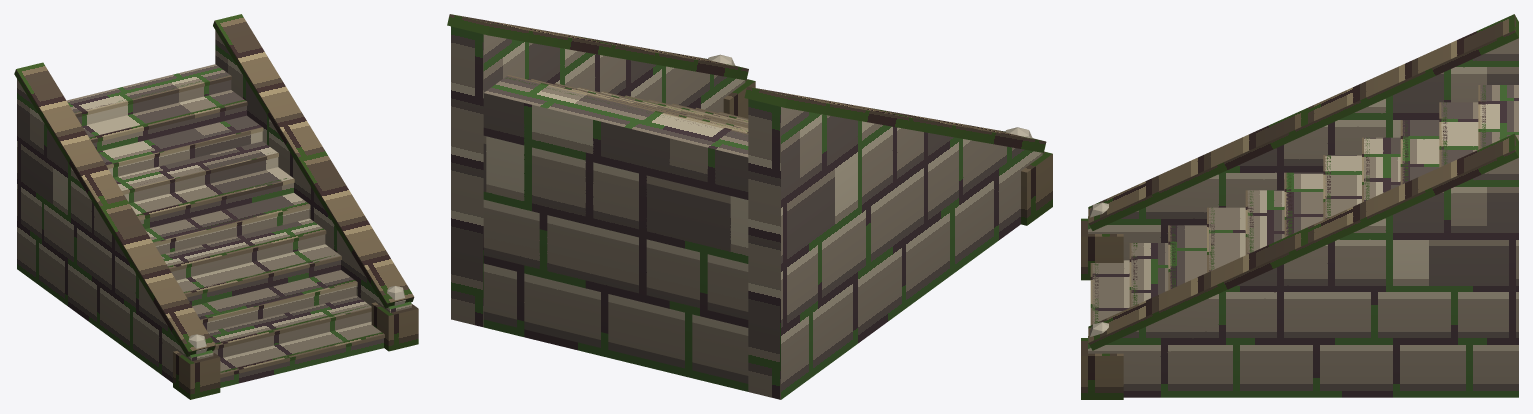
The model's file is scene_stair_market.glb.
The picture shows the model from 3 angles, left to right: view 1: azimuth 30°, elevation 25°; view 2: azimuth 150°, elevation 25°; view 3: azimuth 270°, elevation 25°; orthographic projection. The views are drawn at different scales.
Parts seen in each view (by area): view 1: scene_stair_market; view 2: scene_stair_market; view 3: scene_stair_market.
Part boxes in pixels (bbox=[...]): scene_stair_market: bbox=[14, 14, 418, 399]; scene_stair_market: bbox=[447, 14, 1052, 399]; scene_stair_market: bbox=[1081, 14, 1518, 399].
Size of the model in its own units: 3.36 by 2.84 by 4.52.
2 materials, 1 textured.
